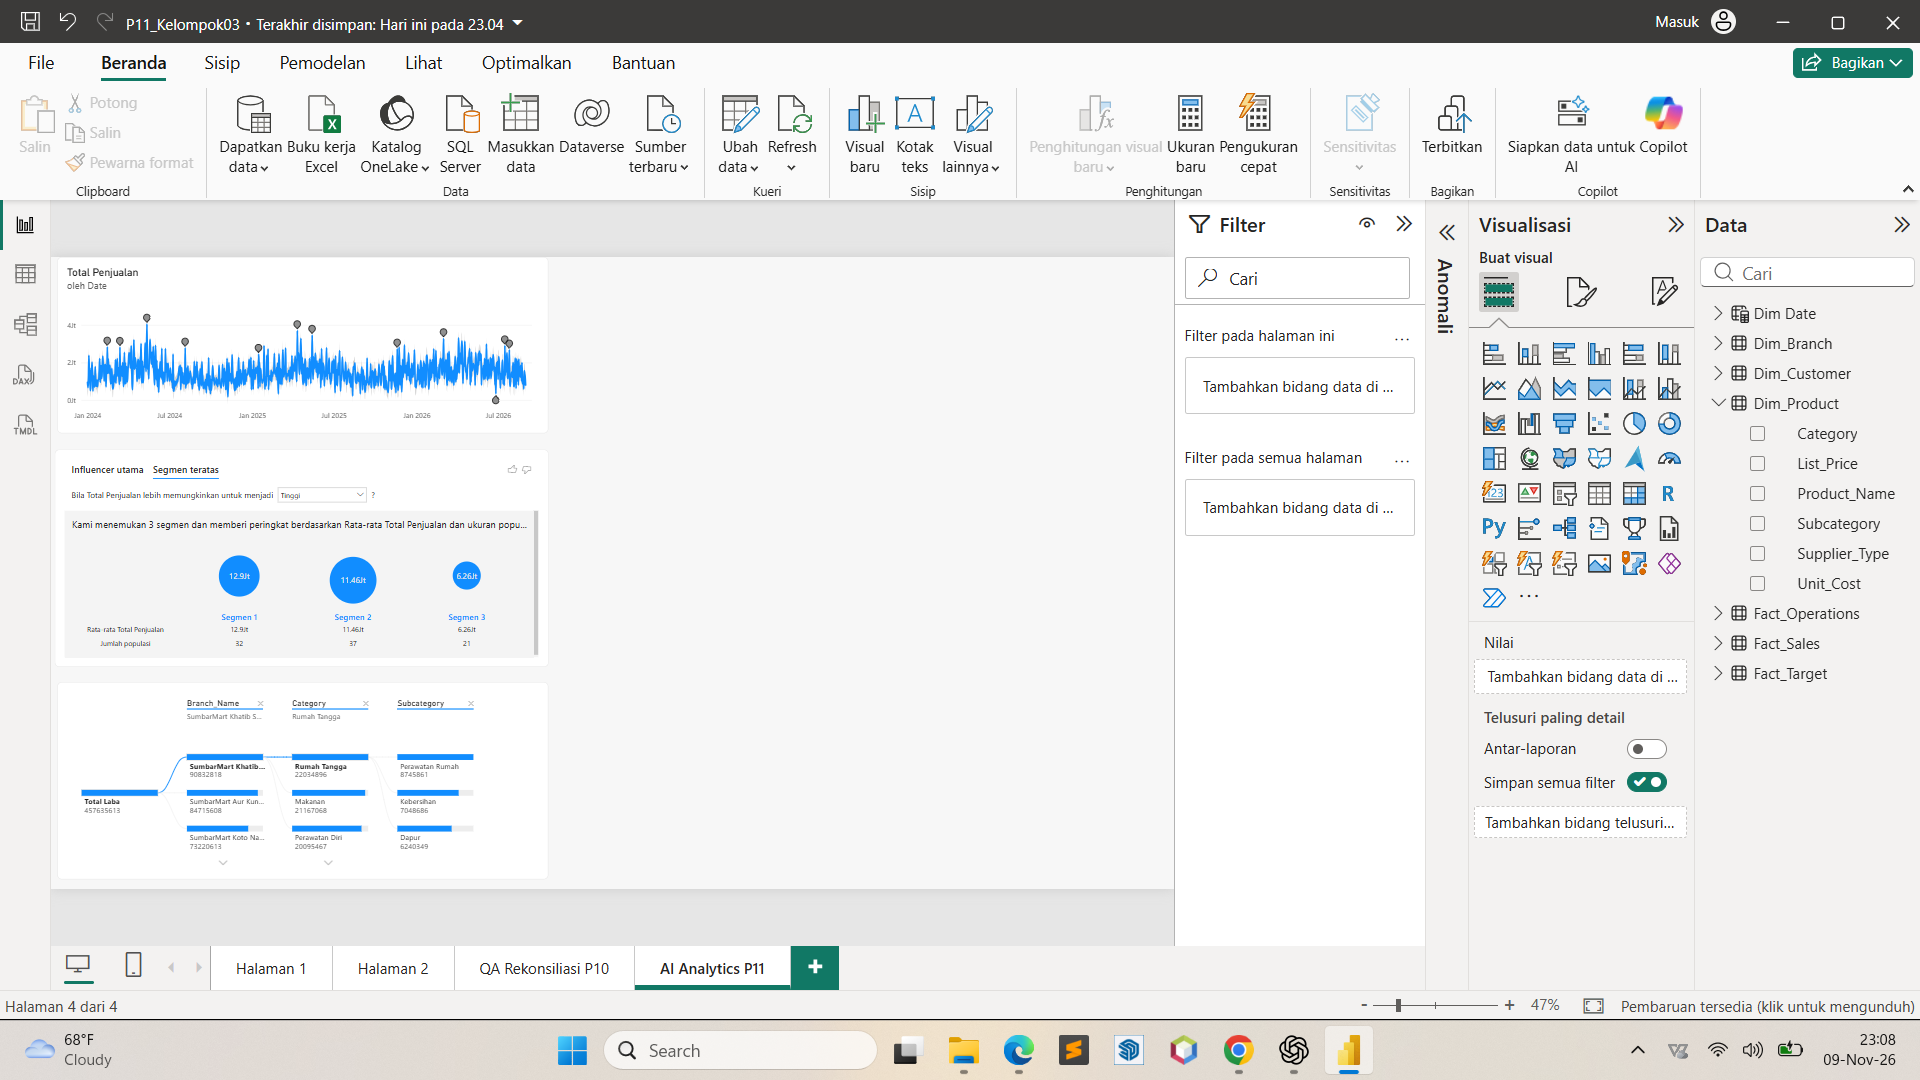

What the dashboard file says about the page in this screenshot:
{"tool":"powerbi","page":{"name":"AI Analytics P11","canvas":[1920,1080],"ordinal":3},"visuals":[{"type":"lineChart","fields":{"Category":["Dim Date.Date"],"Y":["Fact_Sales.Total Penjualan"]},"box":[10.7,0,840.3,301.5],"z":0},{"type":"keyDriversVisual","fields":{"ExplainBy":["Dim_Branch.Branch_Name","Dim_Product.Category","Dim_Product.Subcategory","Sum(Fact_Sales.Discount_Pct)","Fact_Sales.Channel"],"Target":["Fact_Sales.Return_Flag"]},"box":[5.9,329.4,819.6,382.4],"z":1000},{"type":"decompositionTreeVisual","fields":{"Analyze":["Fact_Sales.Total Laba"],"ExplainBy":["Dim_Branch.Branch_Name","Dim_Product.Category","Fact_Sales.Campaign"]},"box":[9.8,727.5,815.7,352.9],"z":2000},{"type":"pivotTable","fields":{"Rows":["Dim_Branch.Branch_Name","Dim_Product.Category","Fact_Sales.Campaign"],"Values":["Fact_Sales.Total Laba"]},"box":[960.8,0,786.3,288.2],"z":2001},{"type":"cardVisual","fields":{"Data":["Fact_Sales.Return Rate"]},"box":[945.1,329.4,272.5,274.5],"z":2002}]}

Visuals, with their boxes on the page's 1920x1080 design canvas (x1, y1, x2, y2). These are canvas units, not pixel positions in the 1920x1080 screenshot, which may show the page scaled, cropped or inside an application window:
lineChart - Dim Date.Date x Fact_Sales.Total Penjualan: Rect(11, 0, 851, 302)
keyDriversVisual - Dim_Branch.Branch_Name x Dim_Product.Category: Rect(6, 329, 826, 712)
decompositionTreeVisual - Fact_Sales.Total Laba x Dim_Branch.Branch_Name: Rect(10, 728, 826, 1080)
pivotTable - Dim_Branch.Branch_Name x Dim_Product.Category: Rect(961, 0, 1747, 288)
cardVisual - Fact_Sales.Return Rate: Rect(945, 329, 1218, 604)
